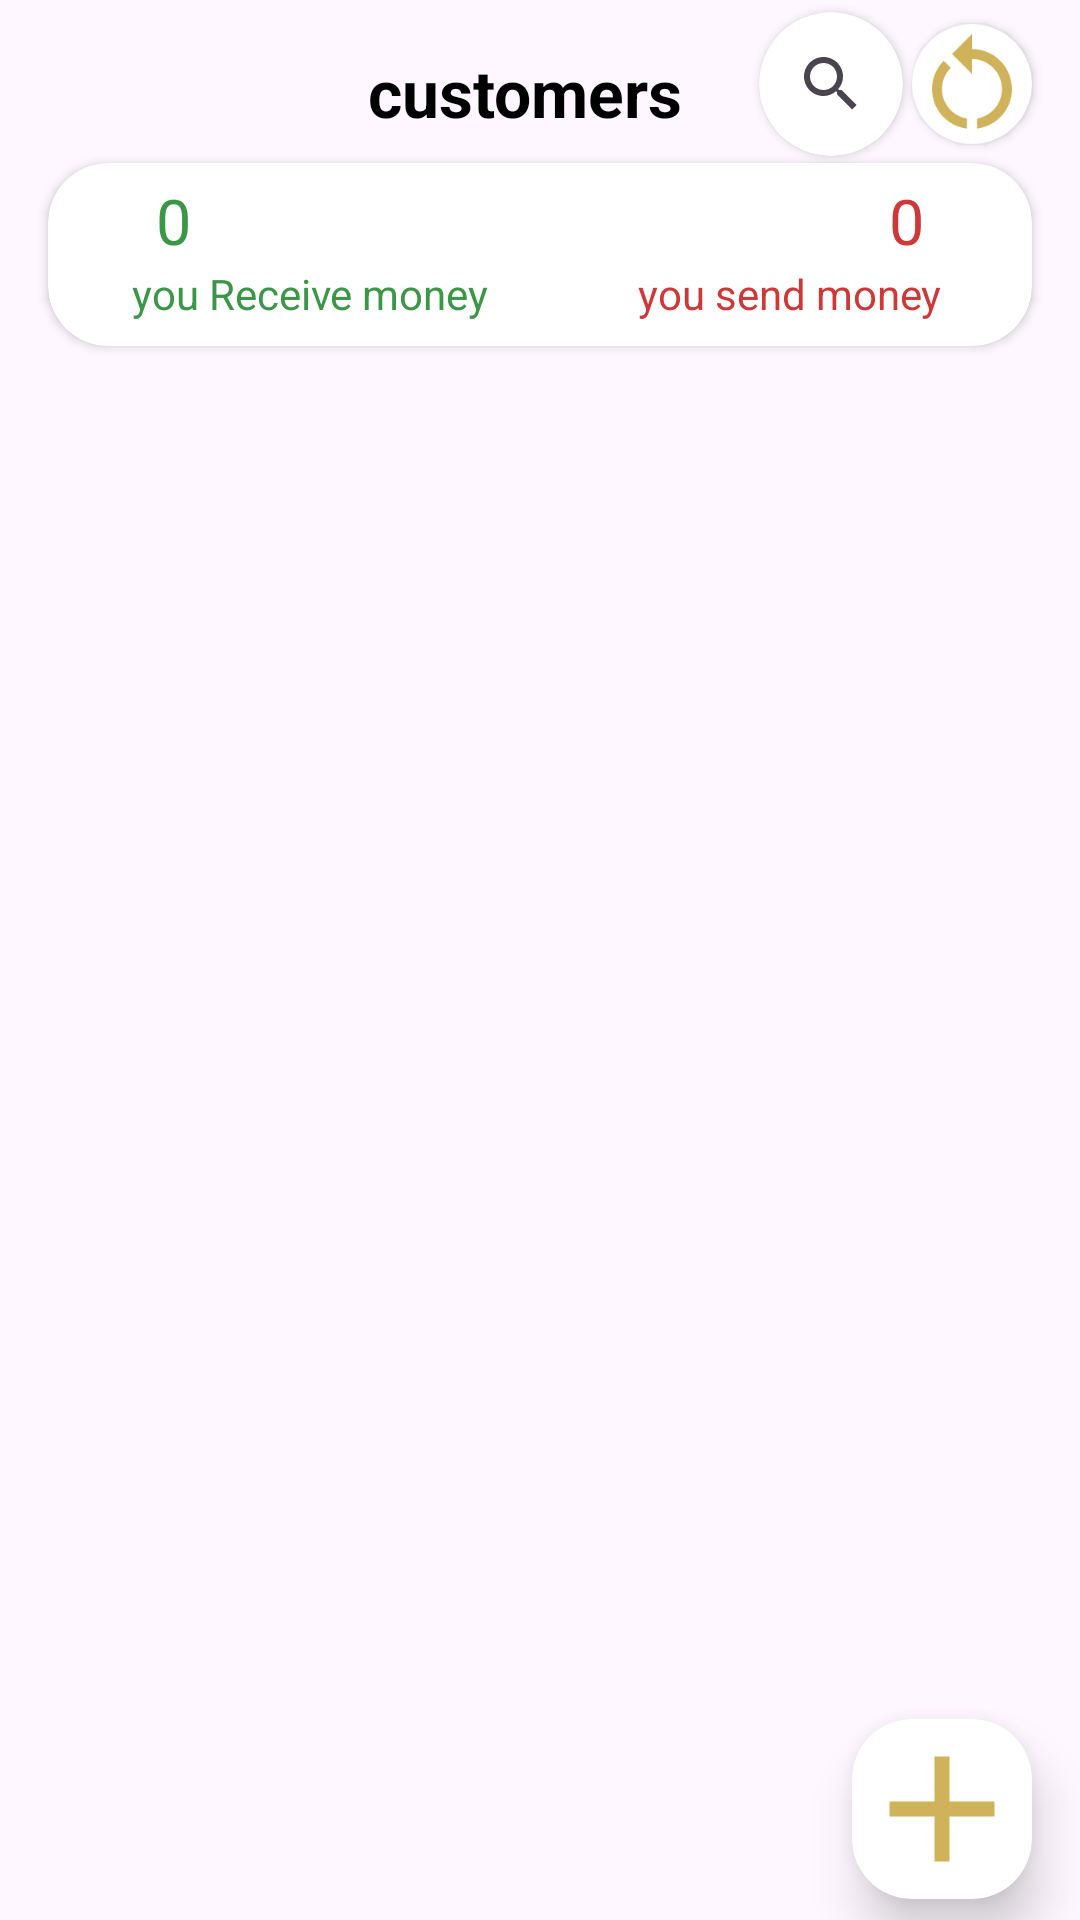

Point at icon controls on the screen. Image size 1080w x 1920h, points as point (x, y).
add: point (942, 1809)
restart: point (972, 84)
